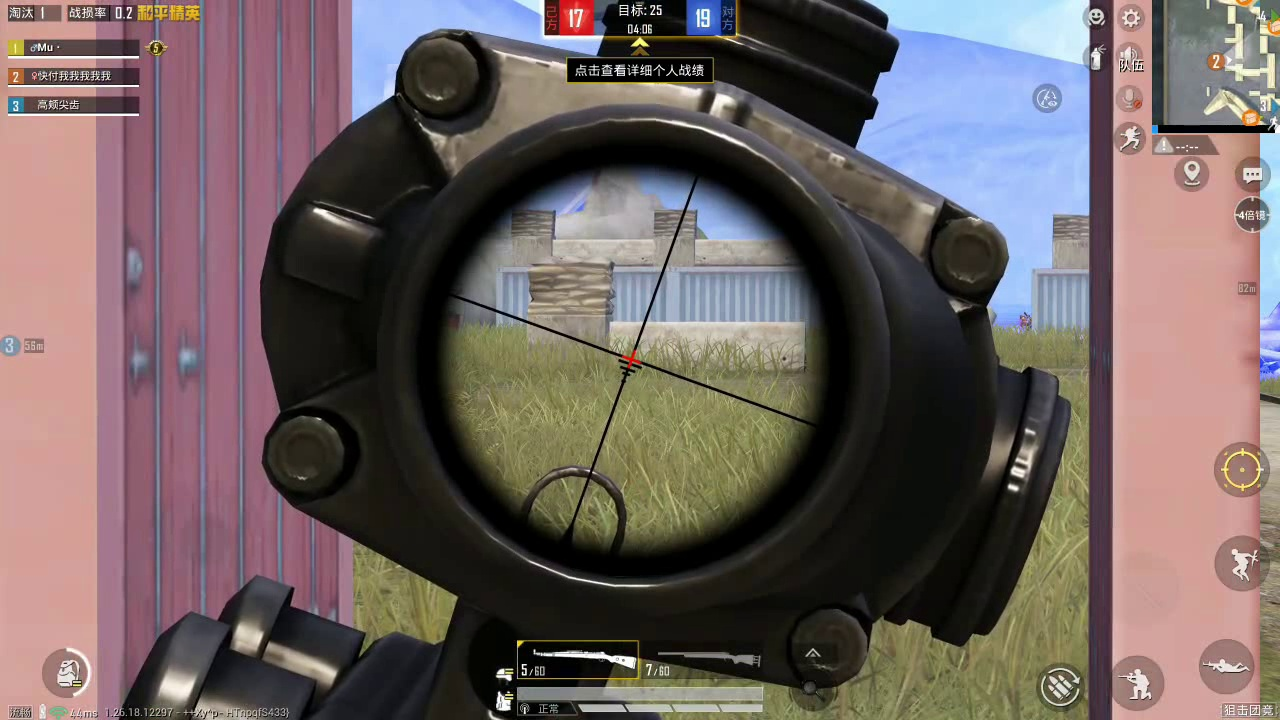enemy: (1016, 310, 1032, 328)
